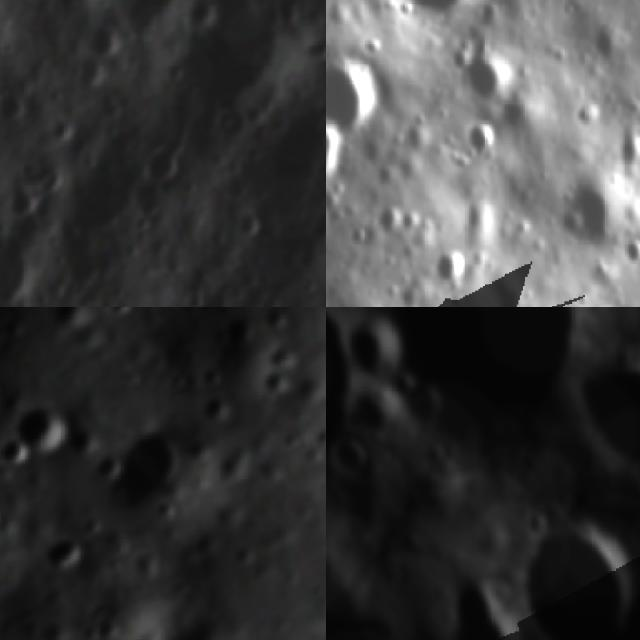crater: (184, 0, 297, 126), (522, 530, 640, 640), (554, 158, 633, 258), (112, 422, 194, 517), (326, 49, 398, 148), (580, 364, 640, 470), (0, 217, 54, 300), (15, 394, 77, 456), (451, 584, 519, 640), (463, 42, 515, 109), (352, 316, 412, 369), (326, 109, 352, 202), (459, 108, 499, 166), (39, 528, 87, 573), (77, 10, 118, 61), (434, 242, 472, 288), (374, 200, 408, 246), (407, 384, 444, 424), (338, 433, 367, 484), (230, 209, 268, 247), (200, 387, 238, 424), (93, 446, 129, 482), (265, 336, 304, 369), (184, 0, 221, 33), (258, 366, 294, 396), (48, 307, 93, 327), (616, 230, 640, 267), (2, 437, 30, 468), (314, 199, 326, 240), (107, 307, 133, 313)
